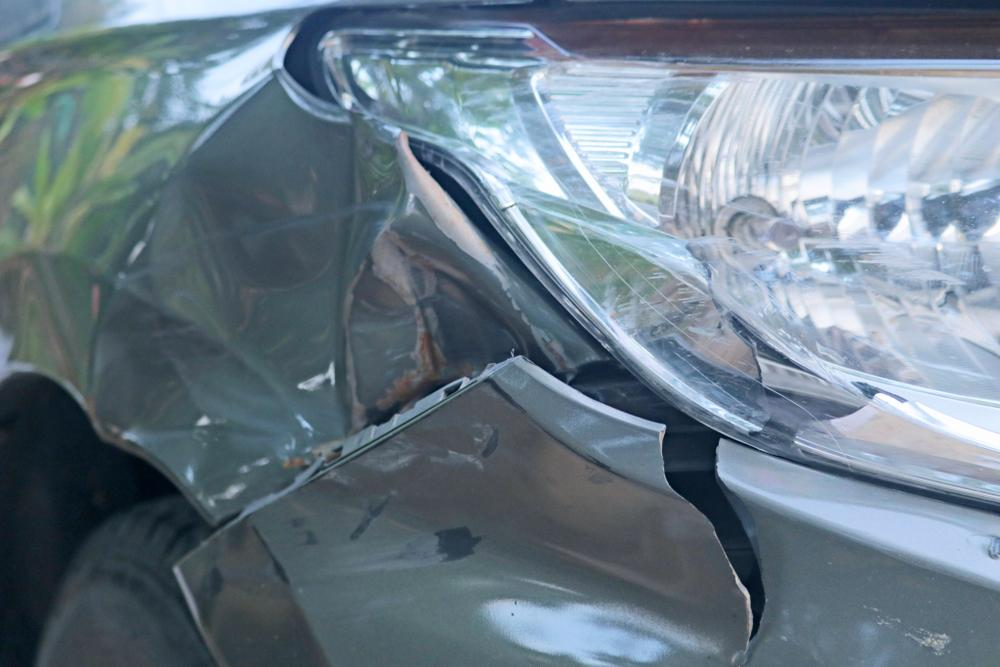crack: (658, 426, 770, 643)
dent: (85, 77, 524, 508), (264, 379, 747, 651)
